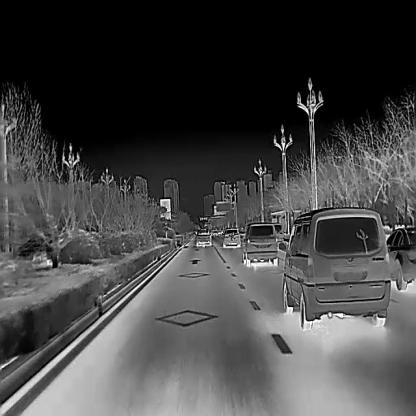car: (278, 206, 390, 330), (386, 225, 416, 289), (242, 221, 278, 265), (222, 227, 240, 246), (196, 229, 211, 246)
